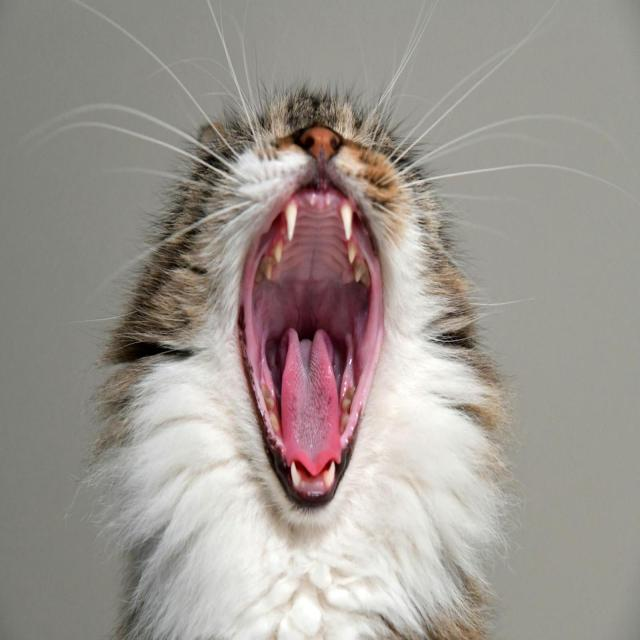Cat: (17, 1, 636, 638)
